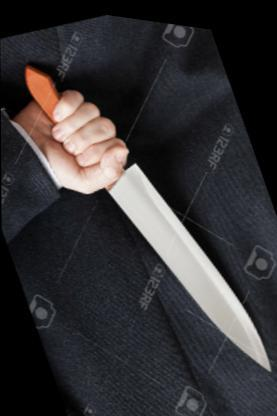knife: (47, 75, 275, 415)
